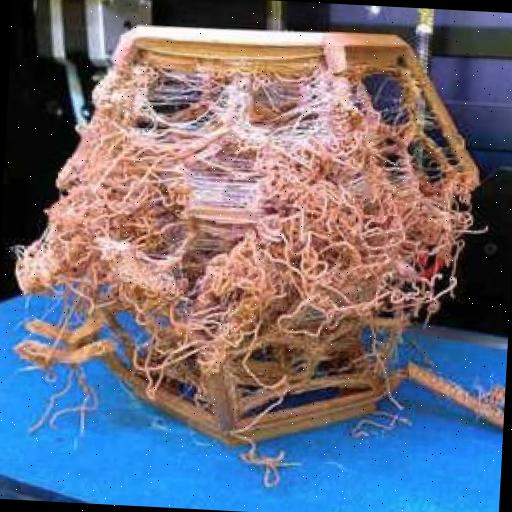spaghetti: (11, 68, 482, 433)
